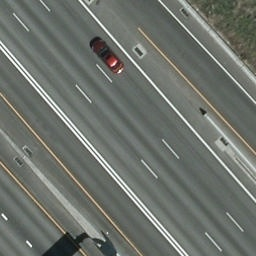car: (90, 39, 127, 76)
